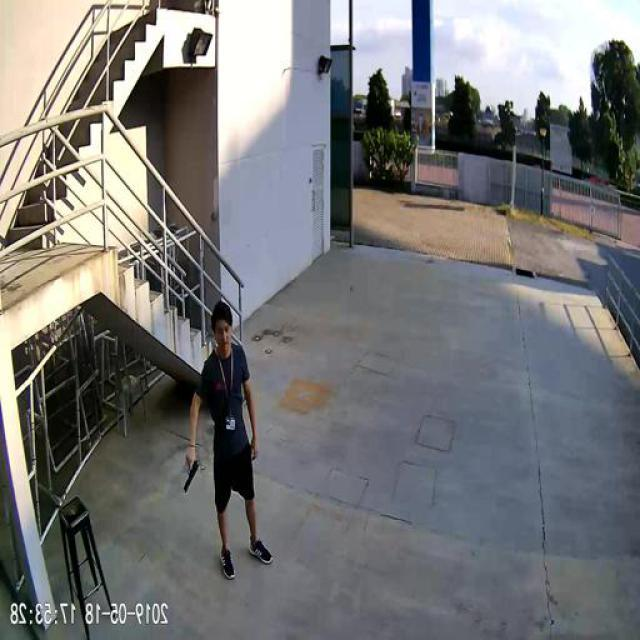Gun: (185, 455, 201, 491)
